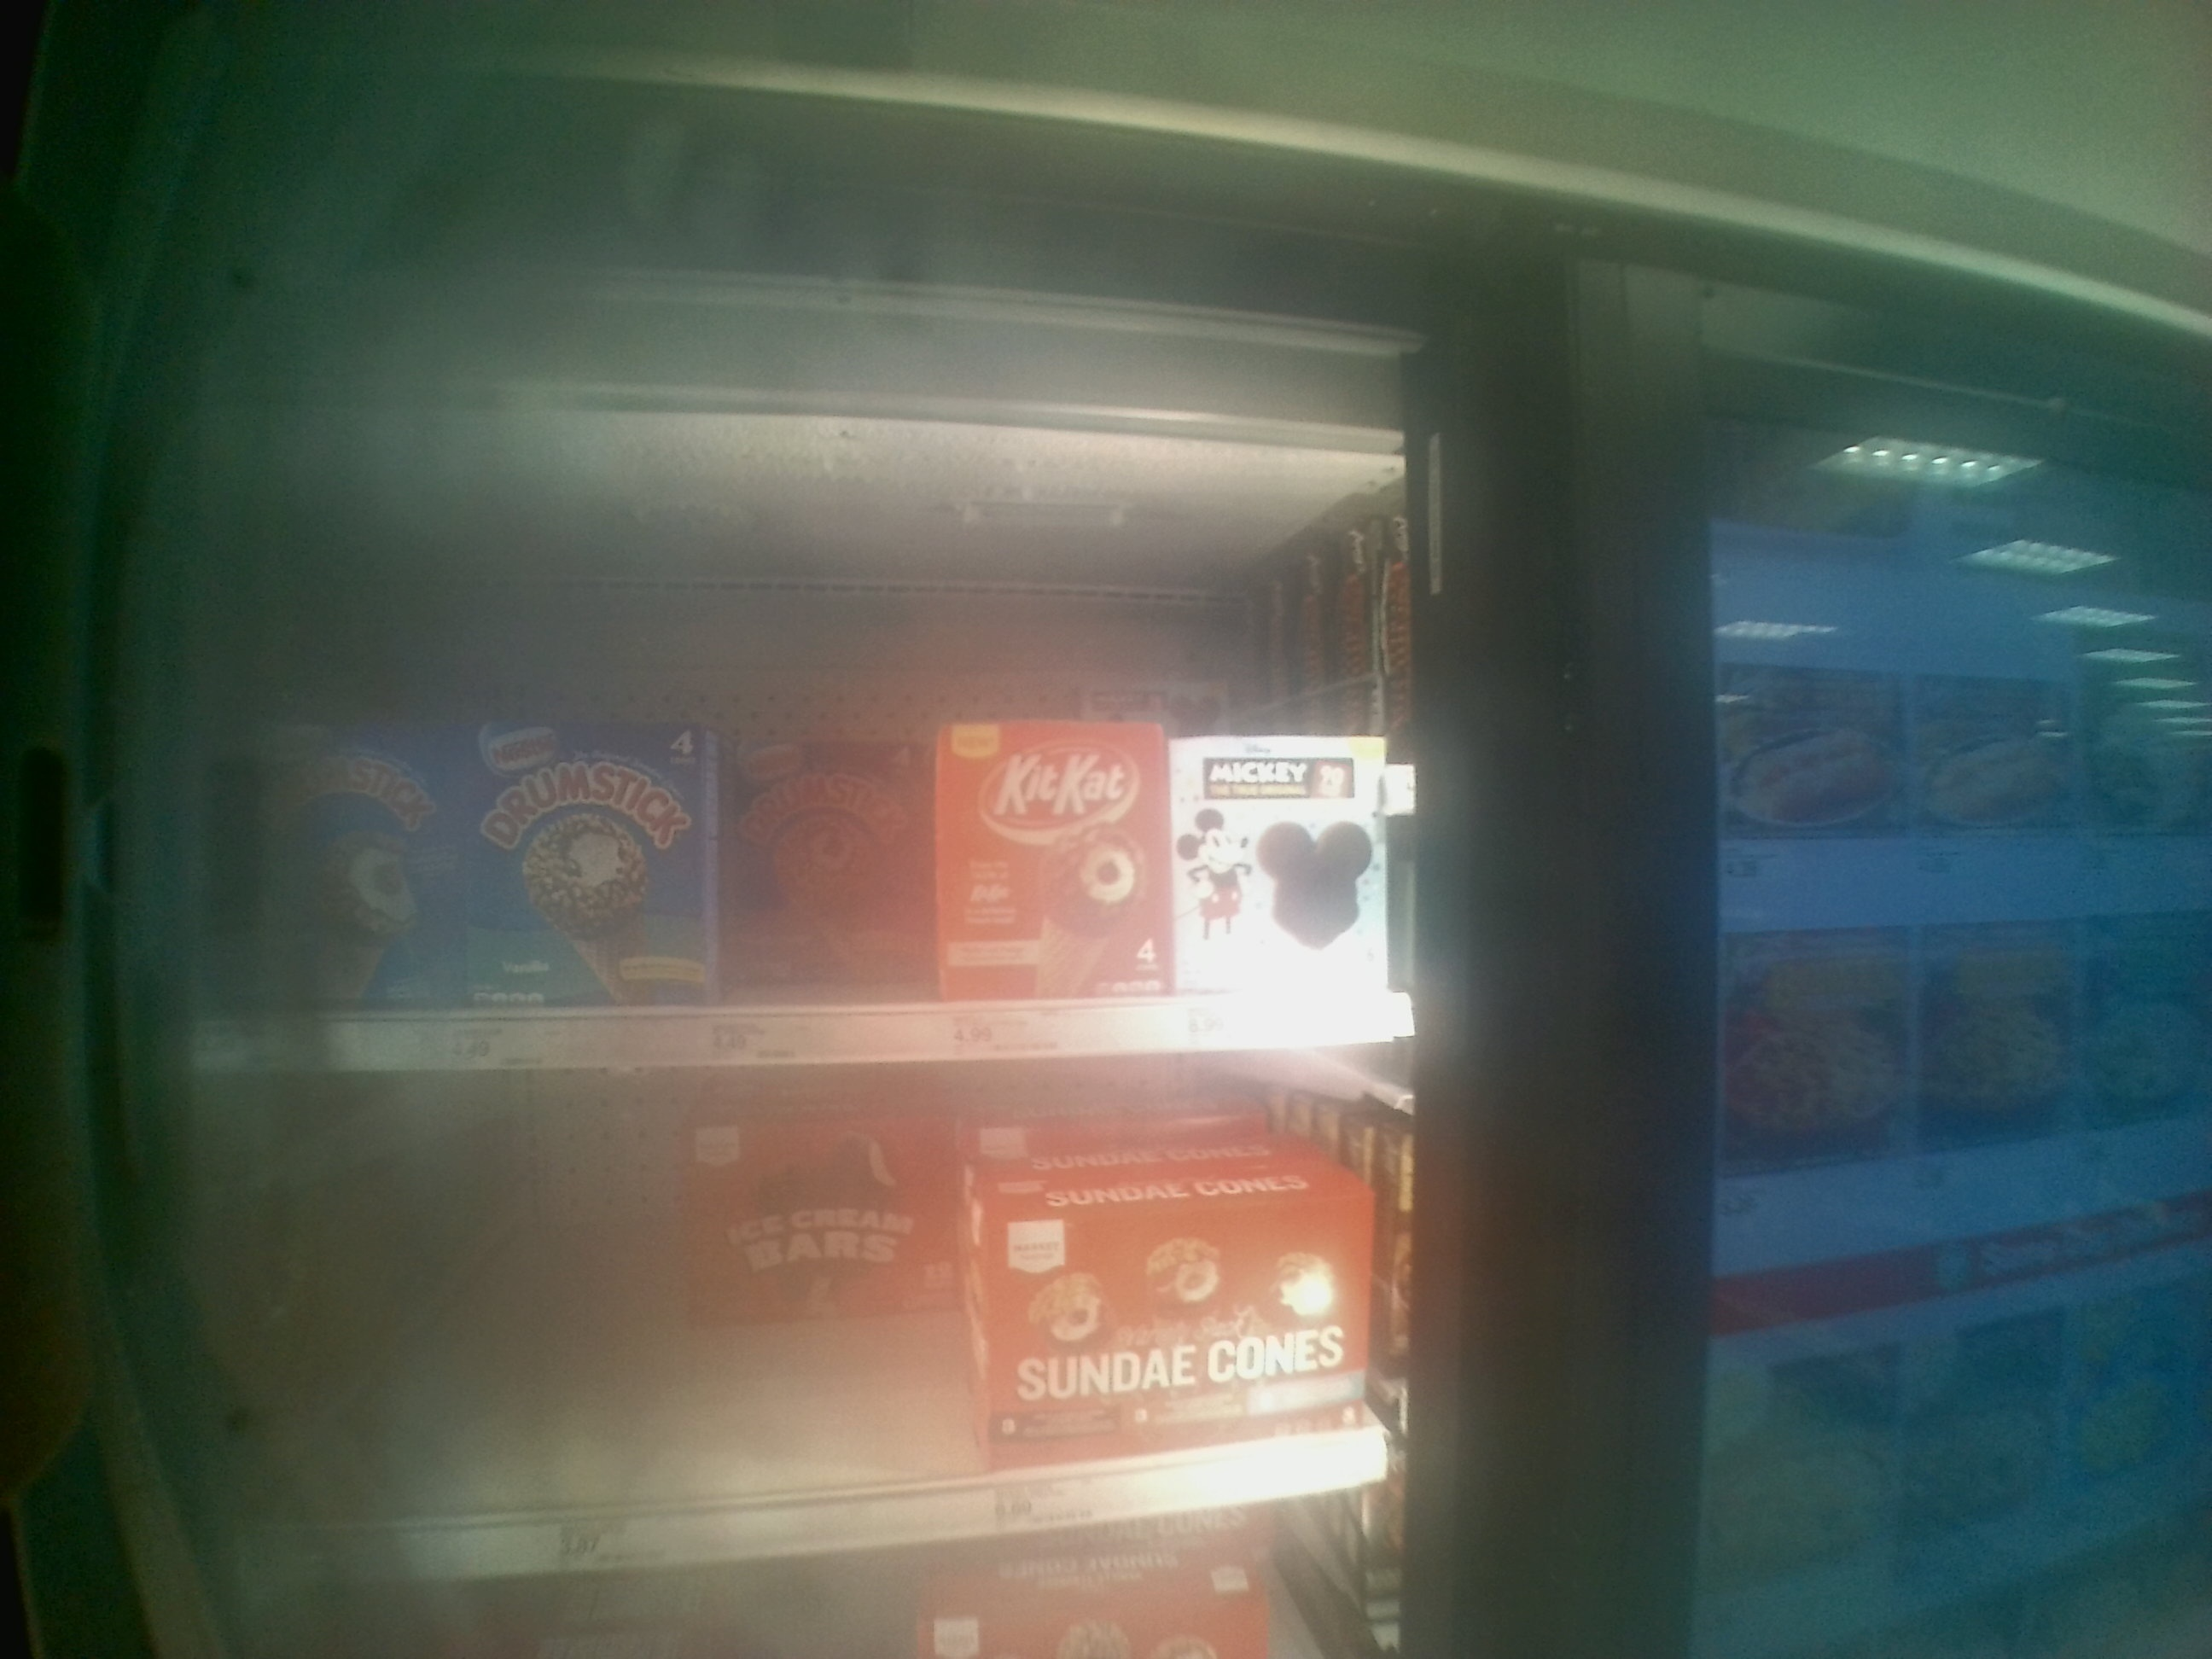frozen-food-shelf: (148, 1082, 1413, 1582), (153, 587, 1428, 1080)
